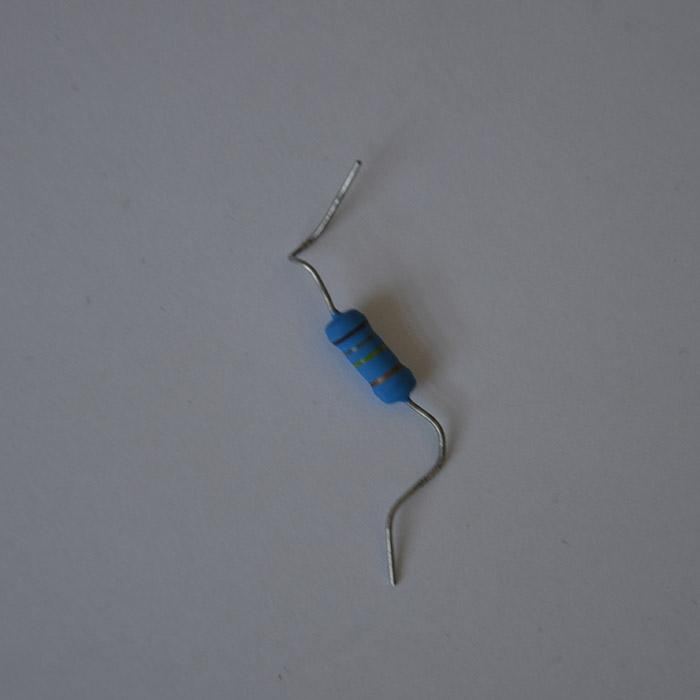resistor: (325, 306, 415, 404)
